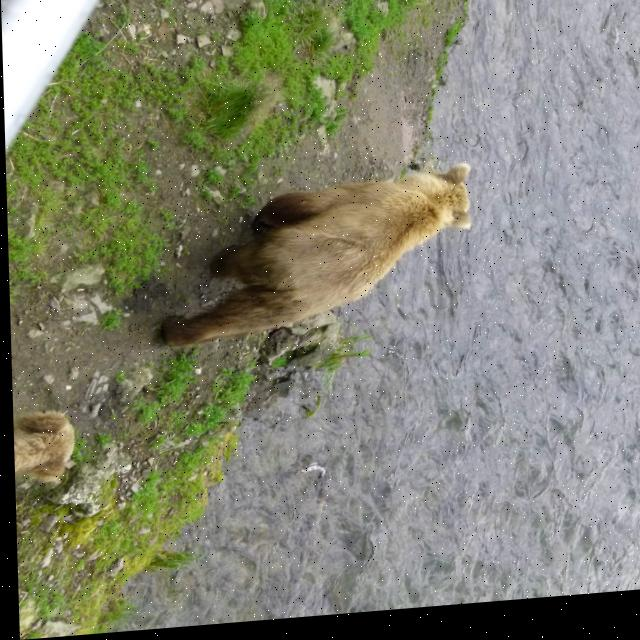bear face: (149, 169, 473, 352), (10, 410, 74, 484)
